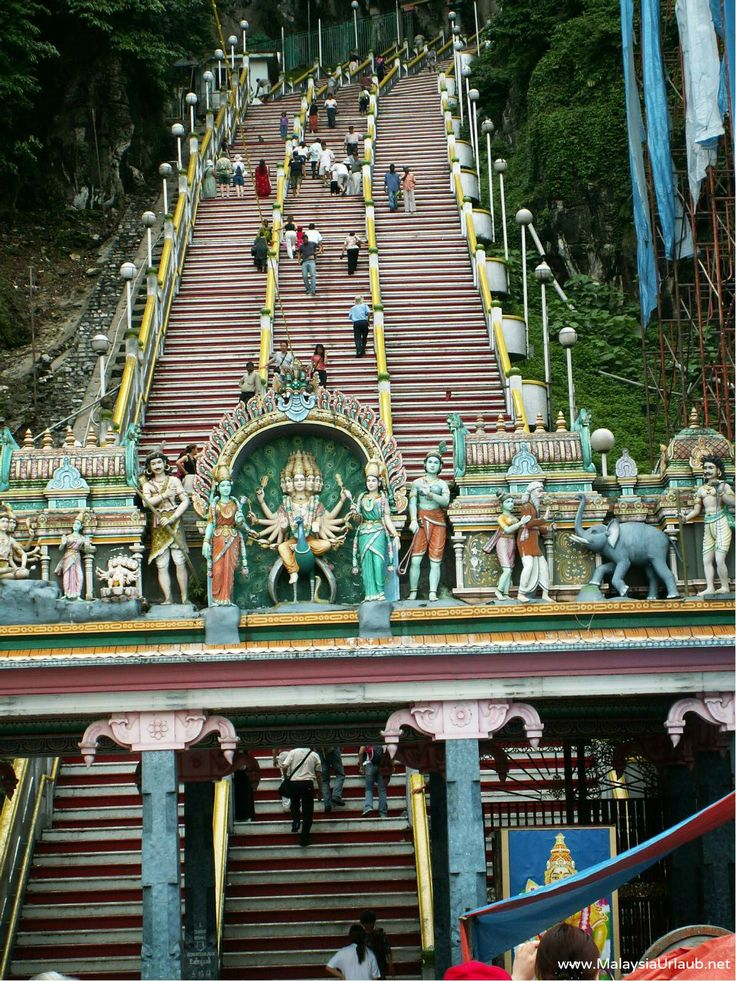Hindu Temple: (9, 381, 727, 677)
